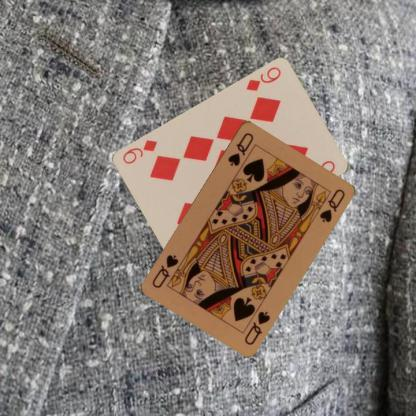9d: (243, 64, 283, 93)
Qs: (225, 129, 255, 167), (242, 308, 272, 346)
